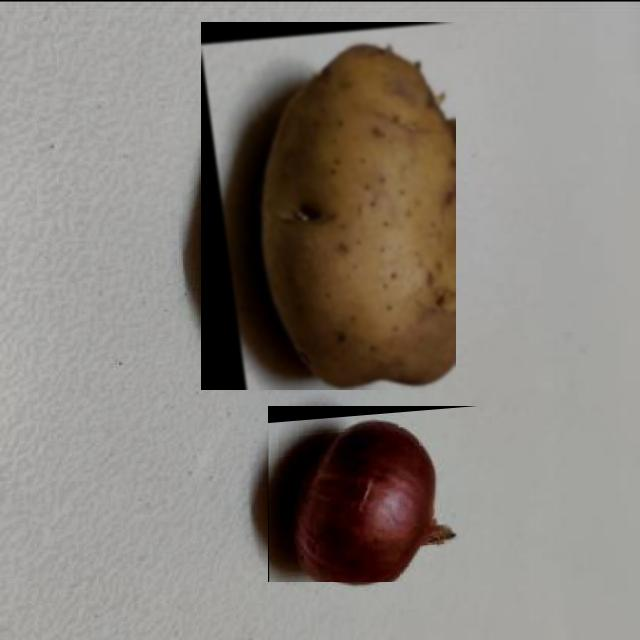Orange: (268, 406, 478, 582)
potato: (201, 22, 456, 390)
